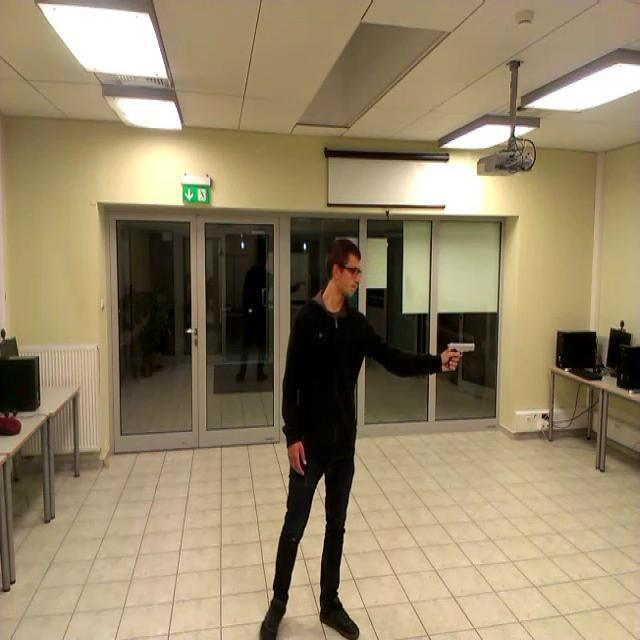weapon: (443, 343, 476, 372)
